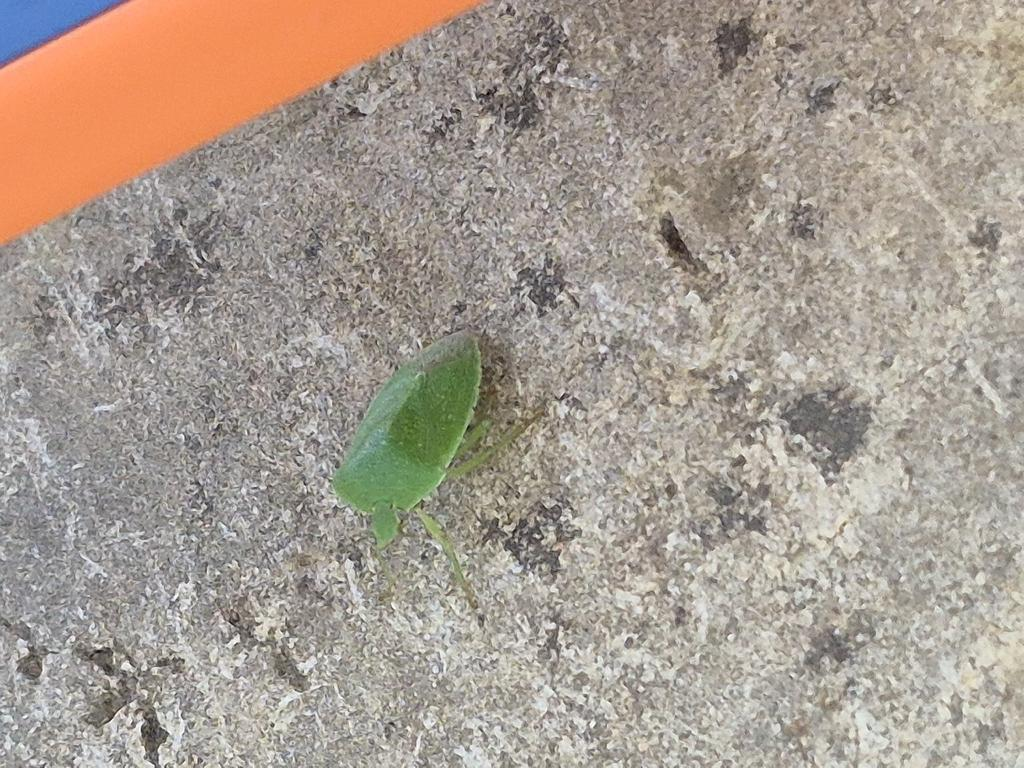stink_bugs: (267, 267, 631, 668)
